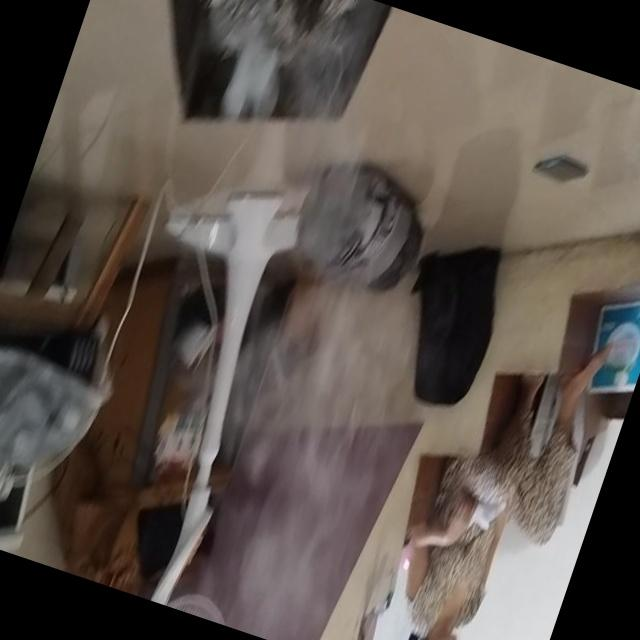smoke: (170, 0, 344, 171)
